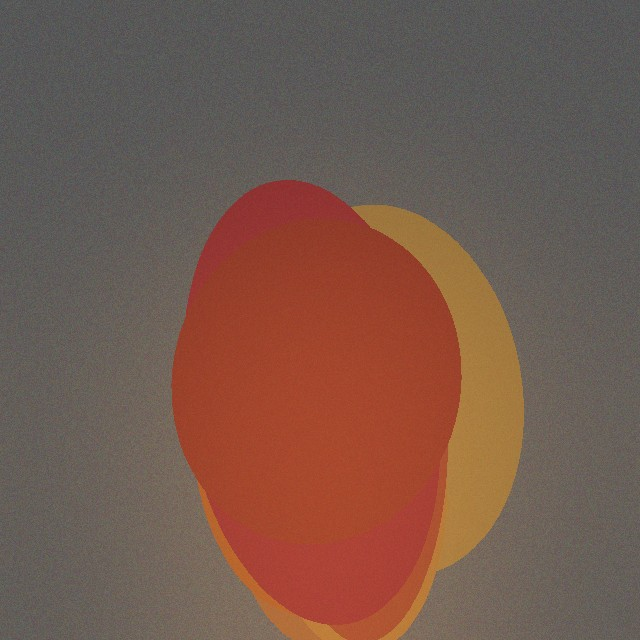fire: (196, 295, 460, 595)
